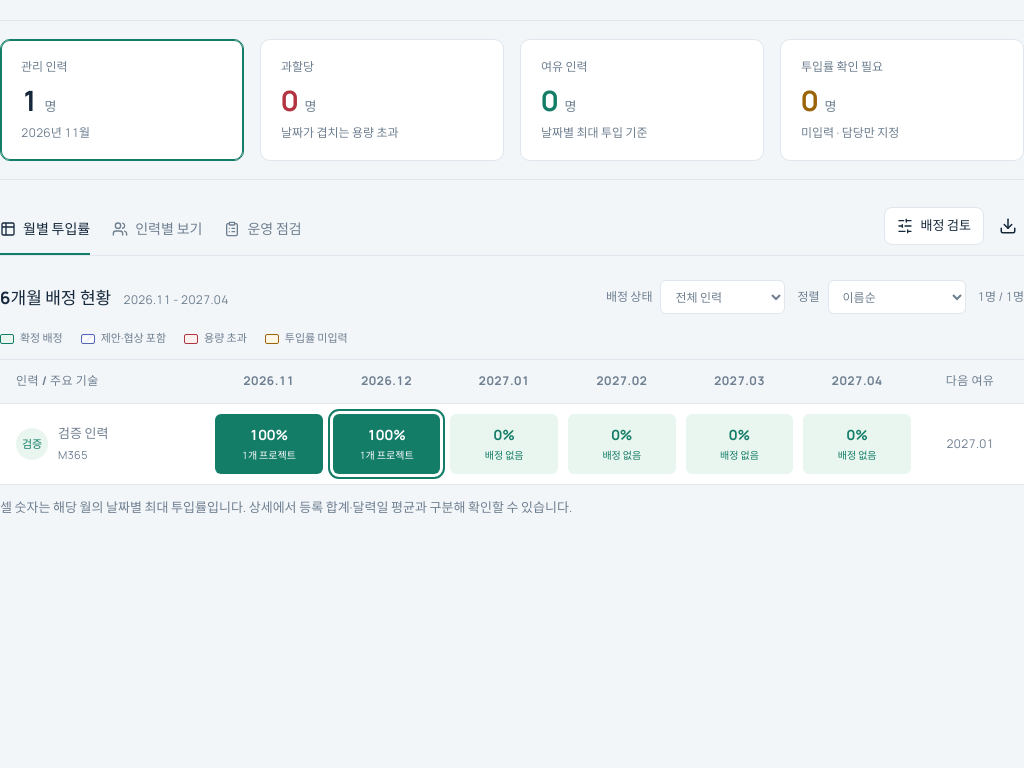
Test case: staffing workflow › opens the chosen month breakdown and restores focus with Escape
Click the button with aria-label "검증 인력 2026년 12월 투입 상세" at [387, 444], box [333,414,440,474]
(page scrolled)
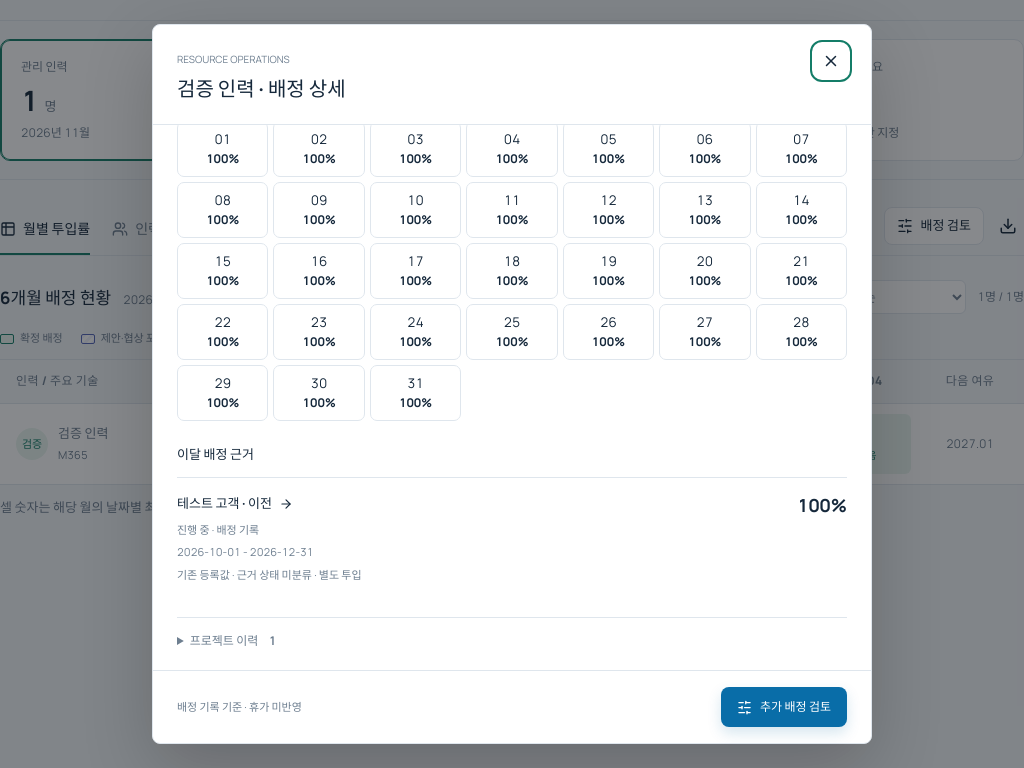
Check: the text "2026-10-01 - 2026-12-31" is shown, box [177,544,314,559]
Press Escape
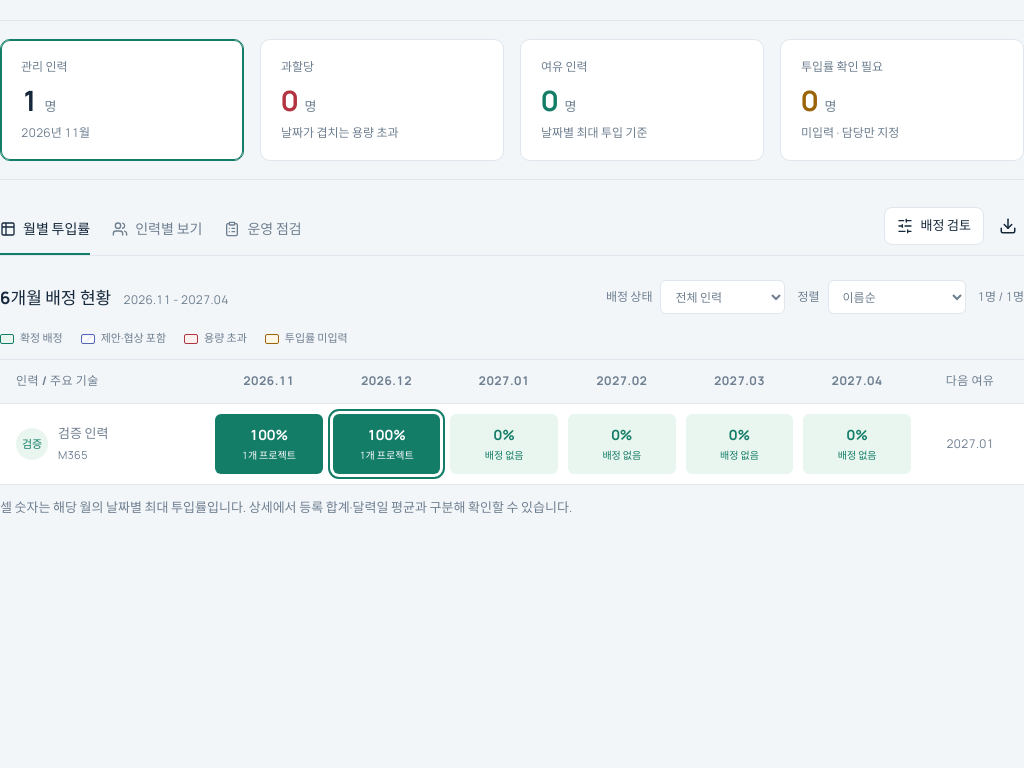
Check: the dialog is gone
